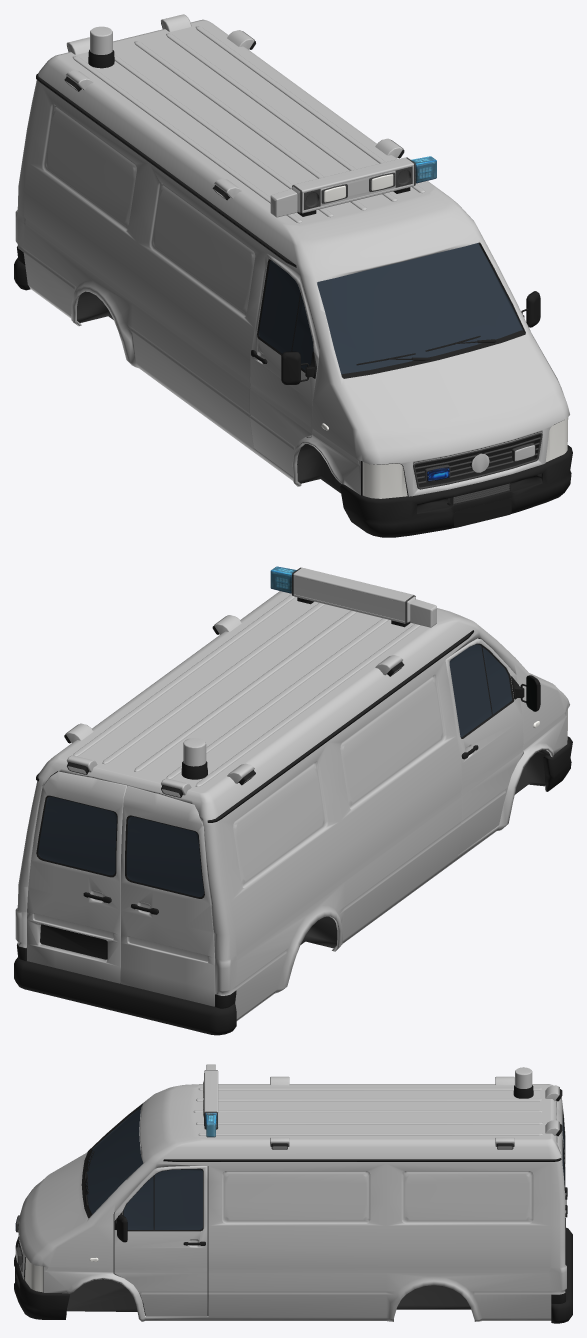
File: rtw.fbx
3 renders of one model, top to bottom at view 1: azimuth 30°, elevation 25°; view 2: azimuth 150°, elevation 25°; view 3: azimuth 270°, elevation 25°, orthographic. The views are drawn at different scales.
Visible parts, largest first — view 1: Mesh; view 2: Mesh; view 3: Mesh.
Part boxes in pixels (x1,y1,x2,y2): Mesh: (14, 14, 572, 537); Mesh: (14, 566, 572, 1035); Mesh: (14, 1064, 572, 1323).
Size of the model in its own units: 212 by 203 by 524.
